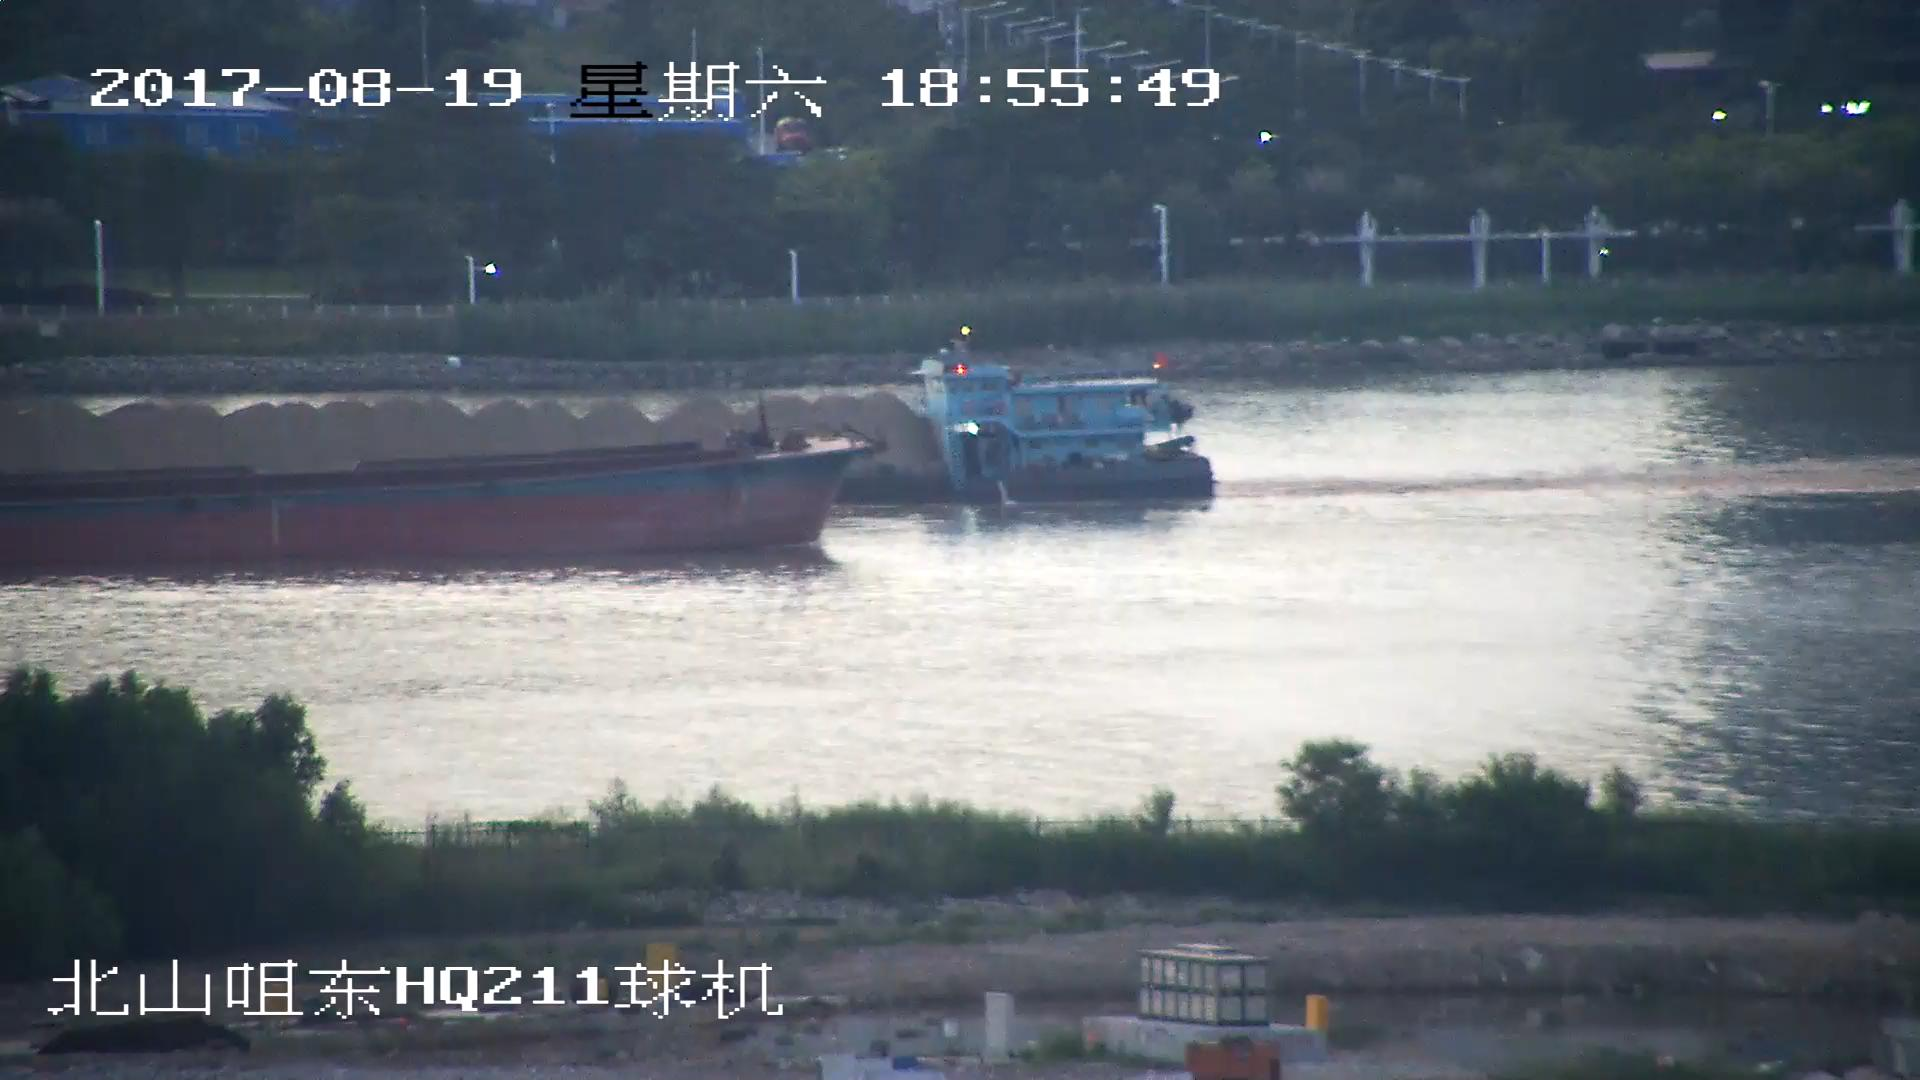bulk cargo carrier: (1, 416, 876, 564)
ore carrier: (1, 362, 1217, 500)
